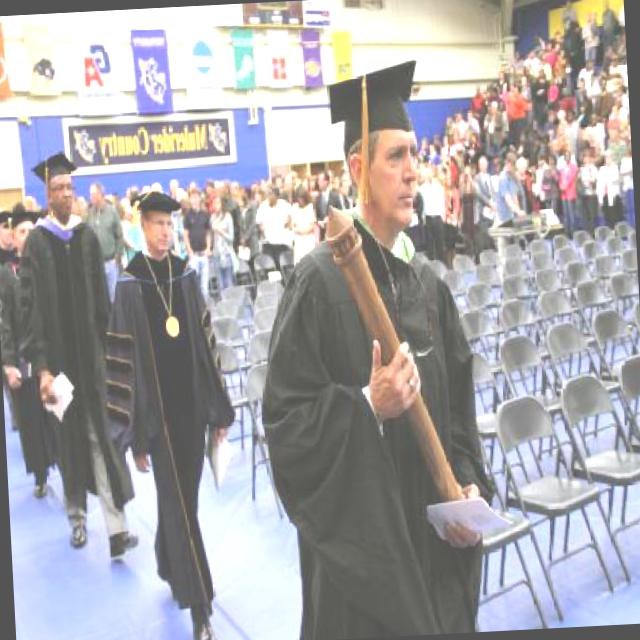Person: (0, 1, 640, 640), (245, 56, 501, 640)
